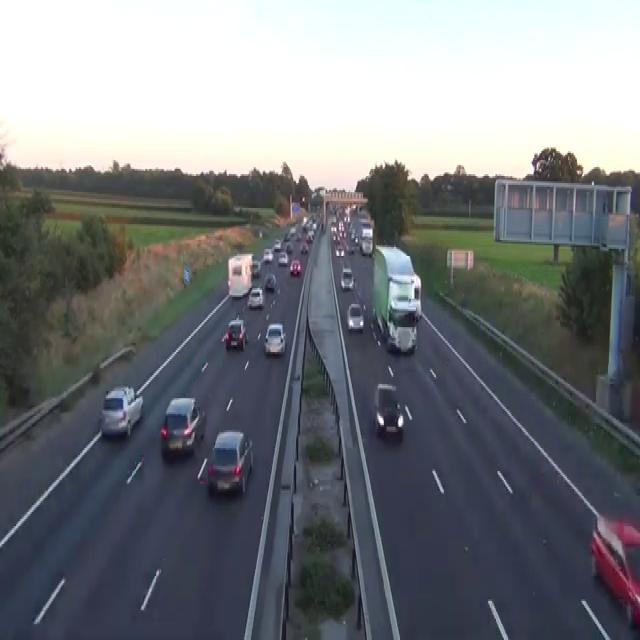Car: (589, 514, 639, 626), (207, 428, 253, 494), (160, 397, 205, 455), (100, 384, 143, 437), (374, 382, 403, 438), (387, 306, 417, 354), (263, 322, 286, 354), (224, 318, 247, 350), (346, 302, 364, 331), (247, 286, 263, 308), (340, 265, 354, 290), (360, 237, 373, 254), (289, 258, 301, 276), (264, 272, 276, 290), (251, 260, 260, 278), (360, 226, 373, 238), (277, 251, 288, 265), (263, 247, 273, 261), (273, 238, 281, 251), (335, 245, 344, 256), (300, 242, 308, 254), (306, 231, 313, 244), (345, 242, 354, 252), (286, 242, 293, 252), (289, 226, 296, 236), (283, 231, 289, 242), (330, 222, 336, 233), (275, 220, 280, 228), (301, 196, 305, 204), (259, 230, 262, 238)
Truck: (372, 244, 422, 354), (227, 252, 253, 297)
